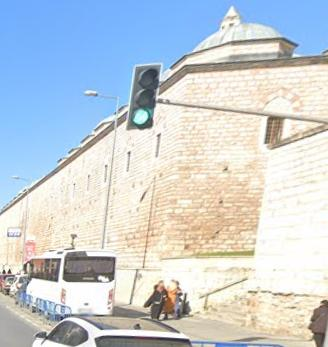greenlight: (135, 66, 153, 126)
